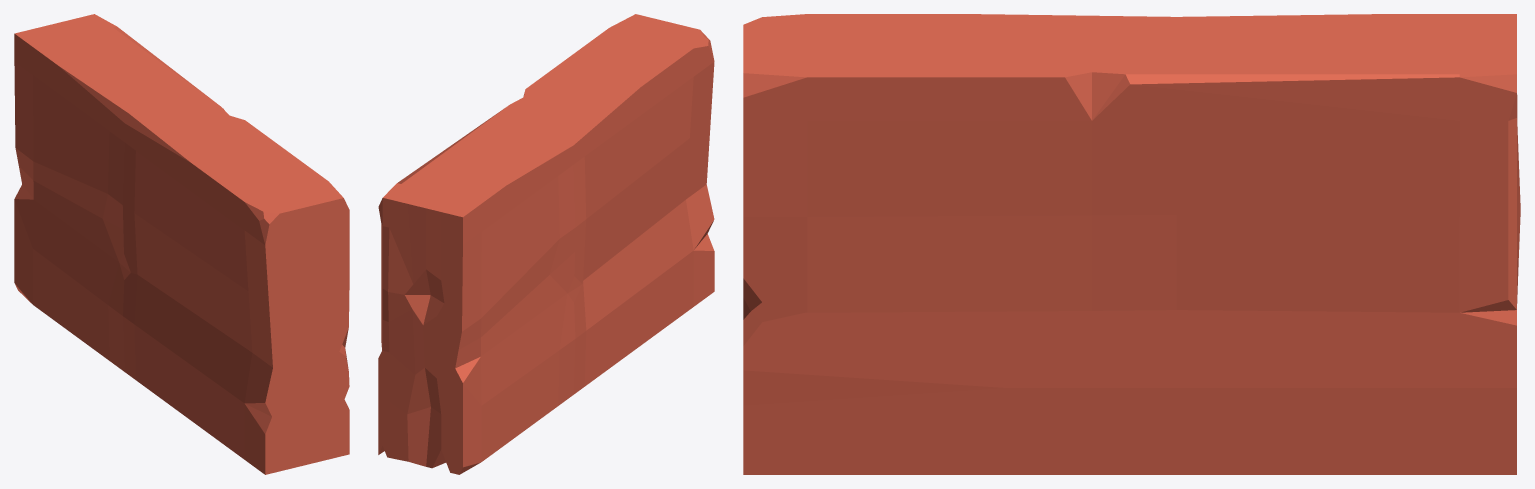
File: Roca_2.fbx
3 views of the same model, side by side, from view 1: azimuth 30°, elevation 25°; view 2: azimuth 150°, elevation 25°; view 3: azimuth 270°, elevation 25° (orthographic). The views are drawn at different scales.
Visible parts, largest first — view 1: roca 1; view 2: roca 1; view 3: roca 1.
Part boxes in pixels (bbox=[...]): roca 1: bbox=[14, 14, 349, 474]; roca 1: bbox=[378, 14, 714, 474]; roca 1: bbox=[743, 14, 1520, 474].
Size of the model in its own units: 940 by 2685 by 4759.
